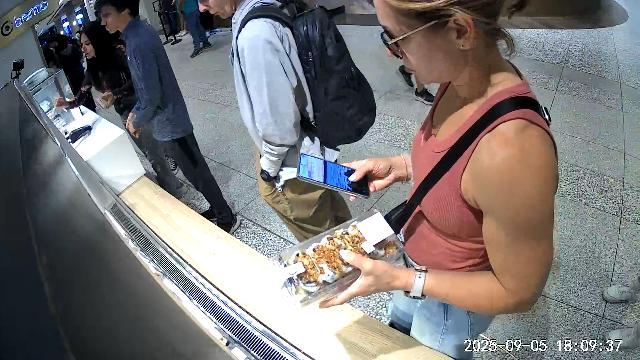sushi-box: (271, 209, 406, 306)
